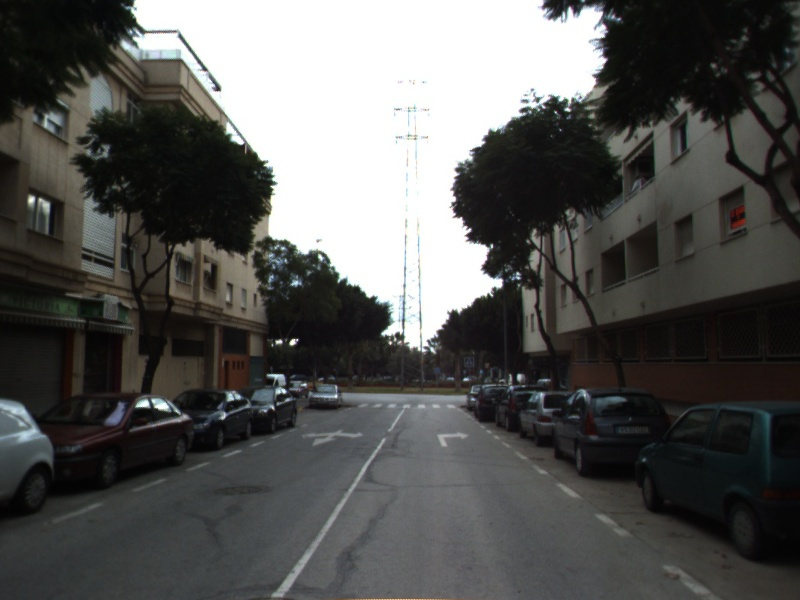RIGHT: (435, 429, 471, 449)
